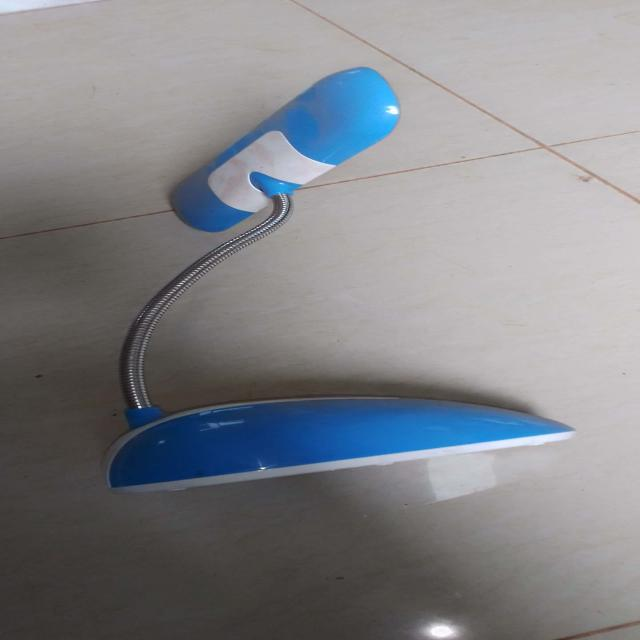Lantern: (78, 62, 578, 522)
